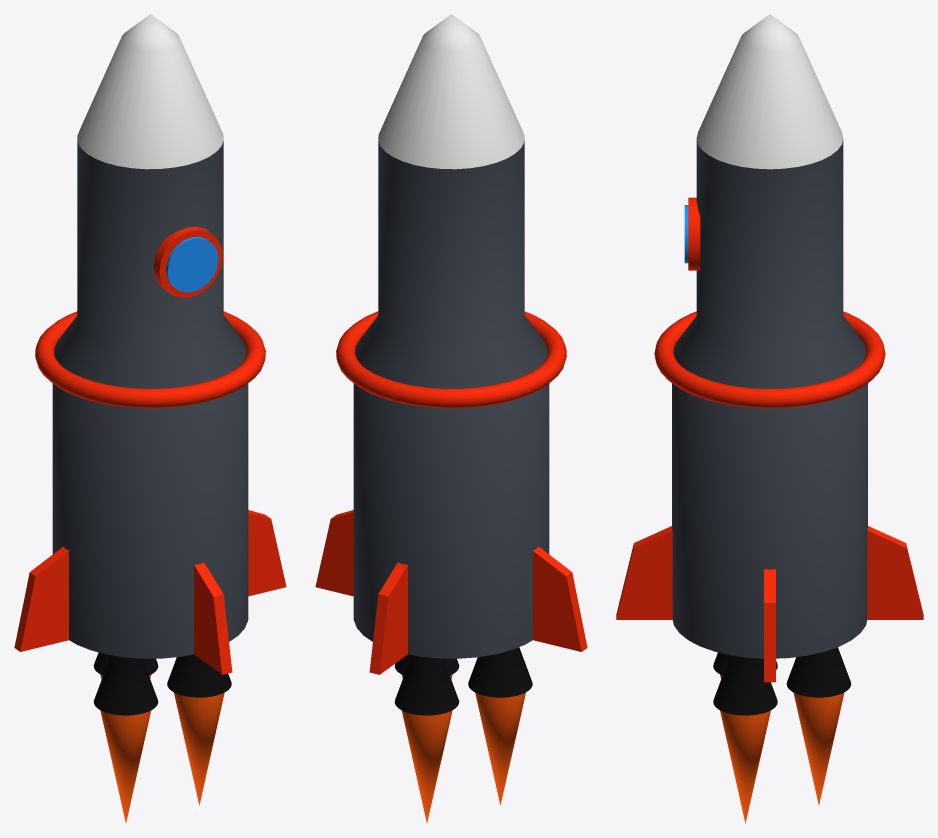
The model's file is Rocket_15_TwinStack.obj.
3 views of the same model, side by side, from view 1: azimuth 30°, elevation 25°; view 2: azimuth 150°, elevation 25°; view 3: azimuth 270°, elevation 25° (orthographic).
Parts seen in each view (by area): view 1: R15_Body, R15_Nose, R15_Ring_1, R15_Fin_2, R15_Fin_3, R15_Nozzle_2, R15_Flame_3, R15_Flame_2, R15_Fin_4, R15_Window_1, R15_Nozzle_3, R15_WindowFrame_1; view 2: R15_Body, R15_Nose, R15_Ring_1, R15_Fin_2, R15_Fin_1, R15_Nozzle_1, R15_Flame_1, R15_Flame_2, R15_Fin_4, R15_Nozzle_2; view 3: R15_Body, R15_Nose, R15_Ring_1, R15_Fin_1, R15_Fin_3, R15_Nozzle_3, R15_Flame_1, R15_Flame_3, R15_Nozzle_1, R15_Fin_4, R15_WindowFrame_1.
Part boxes in pixels (x1,y1,x2,y2): R15_Body: (52, 140, 248, 658); R15_Nose: (77, 14, 223, 169); R15_Ring_1: (35, 311, 265, 408); R15_Fin_2: (14, 546, 68, 651); R15_Fin_3: (194, 562, 232, 674); R15_Nozzle_2: (93, 654, 158, 715); R15_Flame_3: (174, 692, 224, 805); R15_Flame_2: (100, 710, 150, 822); R15_Fin_4: (248, 510, 286, 596); R15_Window_1: (166, 236, 218, 292); R15_Nozzle_3: (167, 654, 231, 697); R15_WindowFrame_1: (153, 226, 222, 297); R15_Body: (353, 140, 549, 658); R15_Nose: (378, 14, 524, 169); R15_Ring_1: (336, 311, 566, 408); R15_Fin_2: (533, 546, 587, 651); R15_Fin_1: (369, 562, 407, 674); R15_Nozzle_1: (394, 654, 459, 715); R15_Flame_1: (401, 710, 452, 822); R15_Flame_2: (475, 692, 525, 805); R15_Fin_4: (315, 510, 353, 596); R15_Nozzle_2: (468, 647, 532, 697); R15_Body: (672, 139, 867, 658); R15_Nose: (696, 14, 843, 169); R15_Ring_1: (654, 311, 885, 408); R15_Fin_1: (867, 526, 923, 619); R15_Fin_3: (616, 526, 672, 619); R15_Nozzle_3: (713, 654, 777, 715); R15_Flame_1: (793, 692, 844, 805); R15_Flame_3: (720, 710, 770, 823); R15_Nozzle_1: (786, 647, 851, 697); R15_Fin_4: (764, 569, 775, 682); R15_WindowFrame_1: (688, 197, 700, 270).
Bounding box in the file's own units: 3.14 × 8.93 × 3.14.
